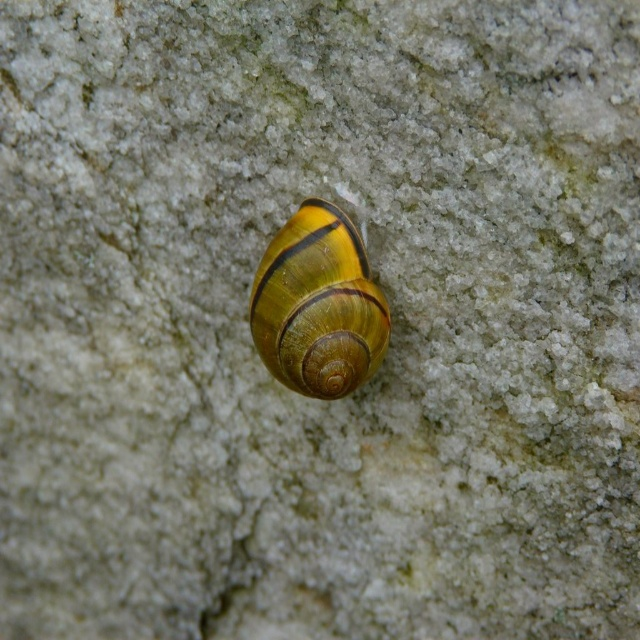Snail: (248, 192, 392, 403)
